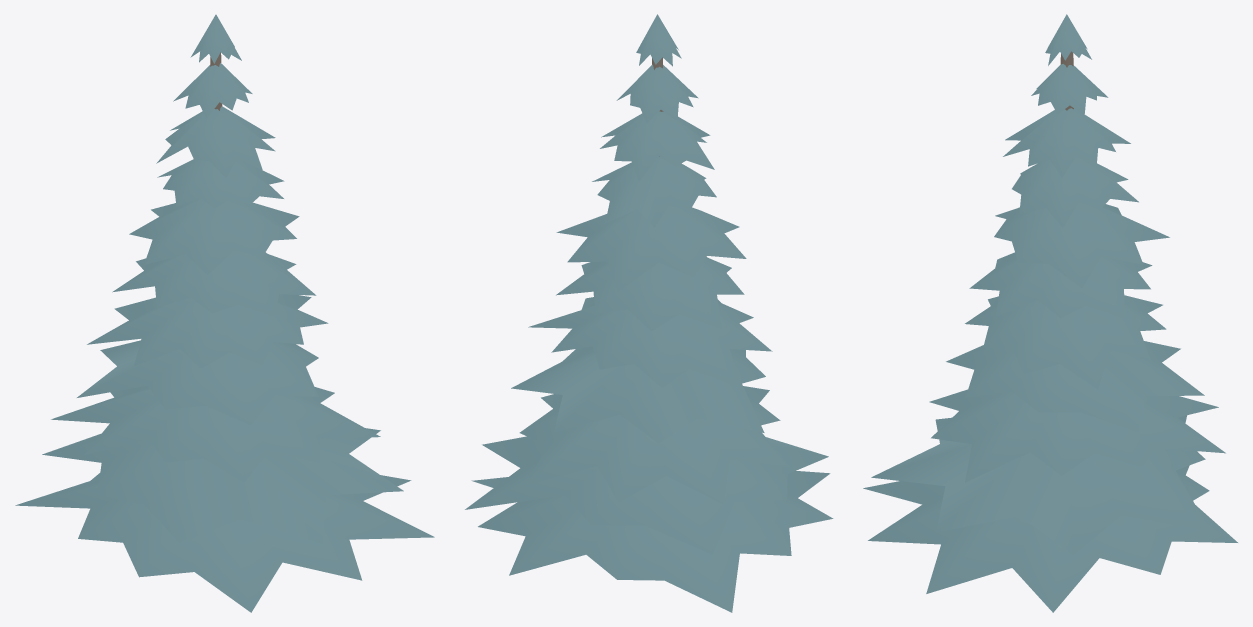
Rendered from Blender_BlueSpruce_2_Far.glb.
3 renders of one model, left to right at view 1: azimuth 30°, elevation 25°; view 2: azimuth 150°, elevation 25°; view 3: azimuth 270°, elevation 25°, orthographic. The views are drawn at different scales.
Visible parts, largest first — view 1: Blender_BlueSpruce_2_Far; view 2: Blender_BlueSpruce_2_Far; view 3: Blender_BlueSpruce_2_Far.
Boxes of the visible parts, bbox=[...] form: Blender_BlueSpruce_2_Far: bbox=[15, 14, 434, 612]; Blender_BlueSpruce_2_Far: bbox=[465, 14, 833, 612]; Blender_BlueSpruce_2_Far: bbox=[863, 14, 1237, 612].
Size of the model in its own units: 9.34 by 13.91 by 9.35.
